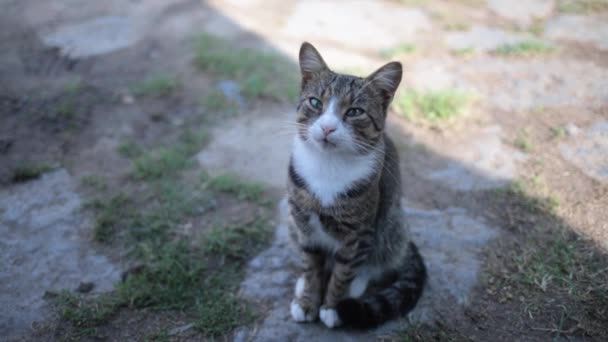cat: (287, 42, 435, 325)
